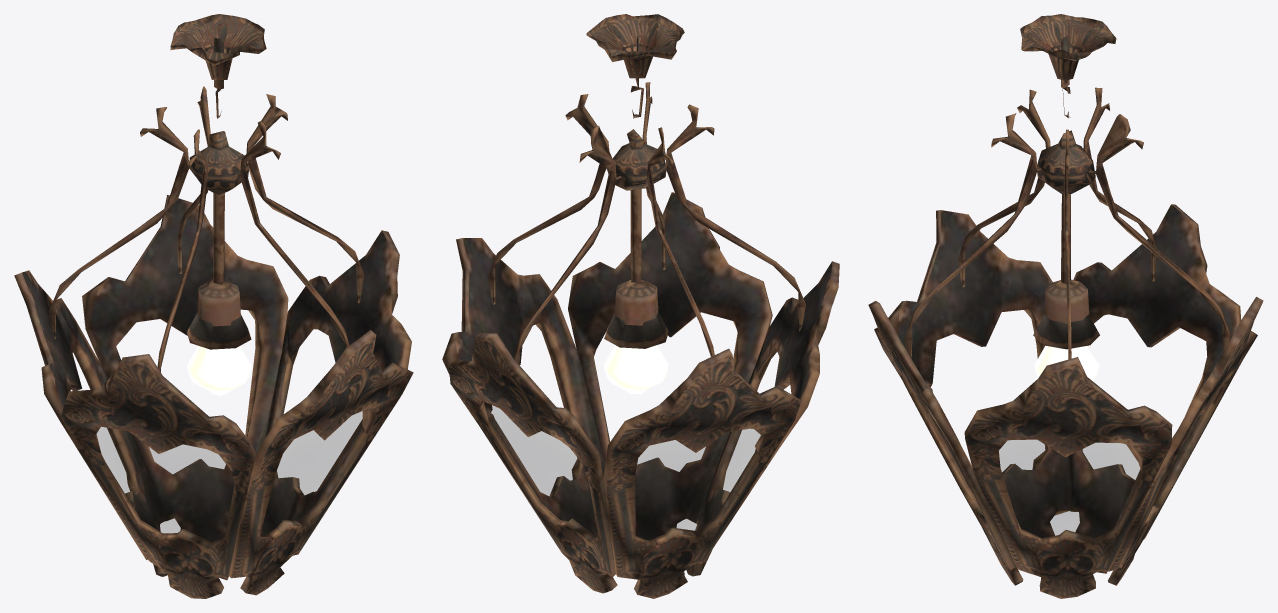
The model's file is lantern_chandelier_01.gltf.
The picture shows the model from 3 angles, left to right: view 1: azimuth 30°, elevation 25°; view 2: azimuth 150°, elevation 25°; view 3: azimuth 270°, elevation 25°; orthographic projection.
Visible parts, largest first — view 1: lantern_chandelier_01; view 2: lantern_chandelier_01; view 3: lantern_chandelier_01.
Boxes of the visible parts, x1,y1,x2,y2 form: lantern_chandelier_01: (14, 14, 413, 598); lantern_chandelier_01: (442, 14, 839, 598); lantern_chandelier_01: (868, 14, 1263, 598).
Bounding box in the file's own units: 0.5788 × 0.8776 × 0.5746.
Materials: 3 (2 with a texture image).
